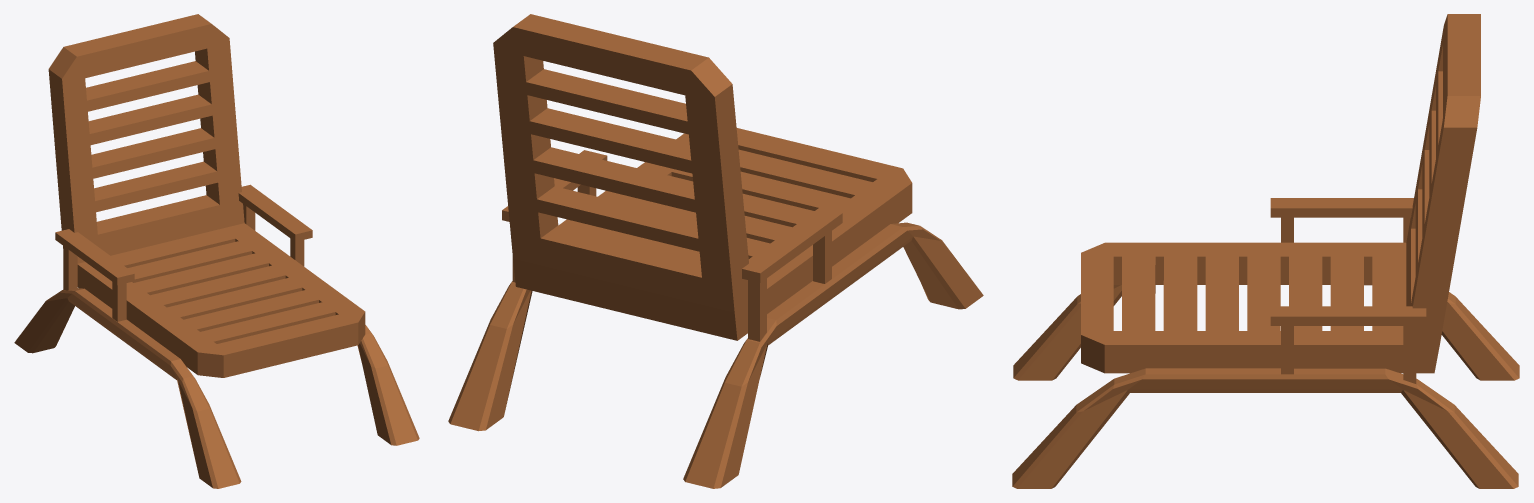
File: Swimming Chair.fbx
The picture shows the model from 3 angles, left to right: view 1: azimuth 30°, elevation 25°; view 2: azimuth 150°, elevation 25°; view 3: azimuth 270°, elevation 25°; orthographic projection. The views are drawn at different scales.
Parts seen in each view (by area): view 1: M_Swimming Chair; view 2: M_Swimming Chair; view 3: M_Swimming Chair.
Boxes of the visible parts, x1,y1,x2,y2 form: M_Swimming Chair: (14,14,419,488); M_Swimming Chair: (448,14,983,488); M_Swimming Chair: (1012,14,1519,488).
Bounding box in the file's own units: 0.2831 × 0.3896 × 0.4825.
Materials: 1 (1 with a texture image).
